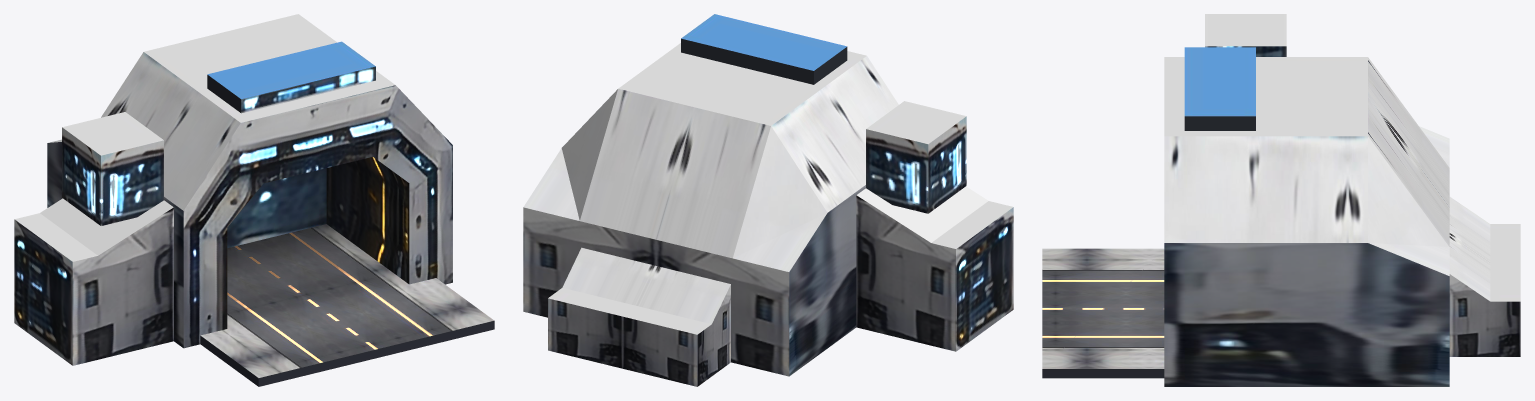
Rendered from H01_hangar_v3.glb.
The picture shows the model from 3 angles, left to right: view 1: azimuth 30°, elevation 25°; view 2: azimuth 150°, elevation 25°; view 3: azimuth 270°, elevation 25°; orthographic projection. The views are drawn at different scales.
Visible parts, largest first — view 1: H01_Hangar; view 2: H01_Hangar; view 3: H01_Hangar.
Part boxes in pixels (x1,y1,x2,y2): H01_Hangar: [14, 14, 494, 386]; H01_Hangar: [523, 14, 1013, 386]; H01_Hangar: [1042, 14, 1520, 386].
Size of the model in its own units: 44 by 25.6 by 47.
1 material, 1 textured.
